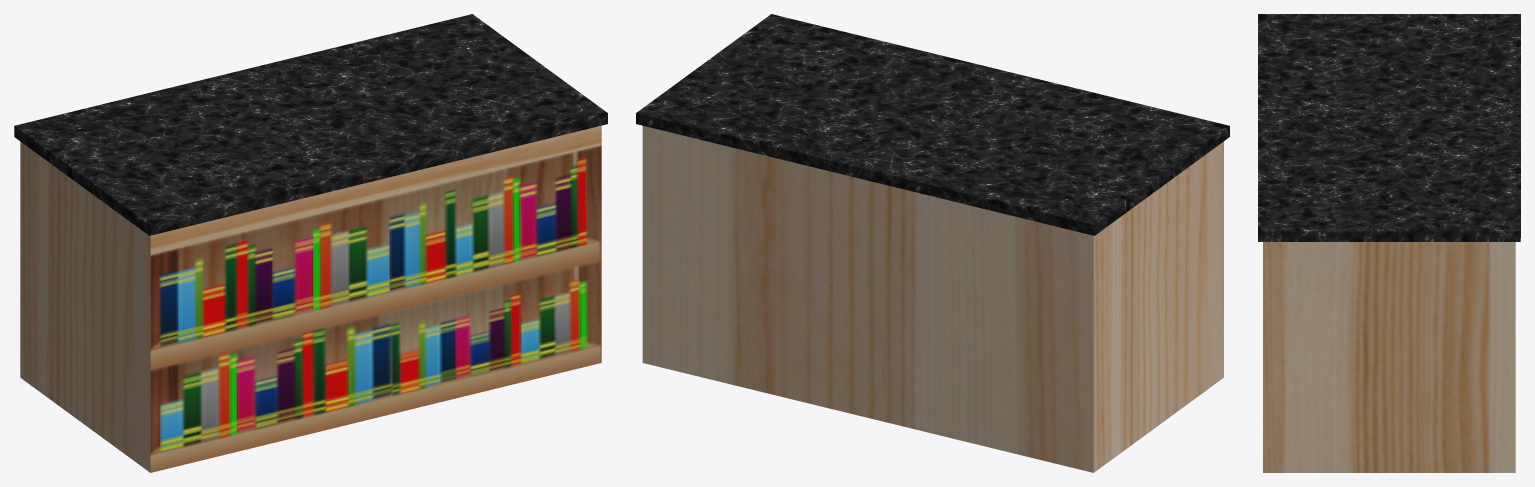
The model's file is counter.fbx.
3 views of the same model, side by side, from view 1: azimuth 30°, elevation 25°; view 2: azimuth 150°, elevation 25°; view 3: azimuth 270°, elevation 25° (orthographic). The views are drawn at different scales.
Visible parts, largest first — view 1: counter; view 2: counter; view 3: counter.
Part boxes in pixels (x1,y1,x2,y2): counter: (14, 14, 607, 472); counter: (636, 14, 1229, 472); counter: (1258, 14, 1520, 472).
Size of the model in its own units: 2.03 by 1.06 by 1.04.
